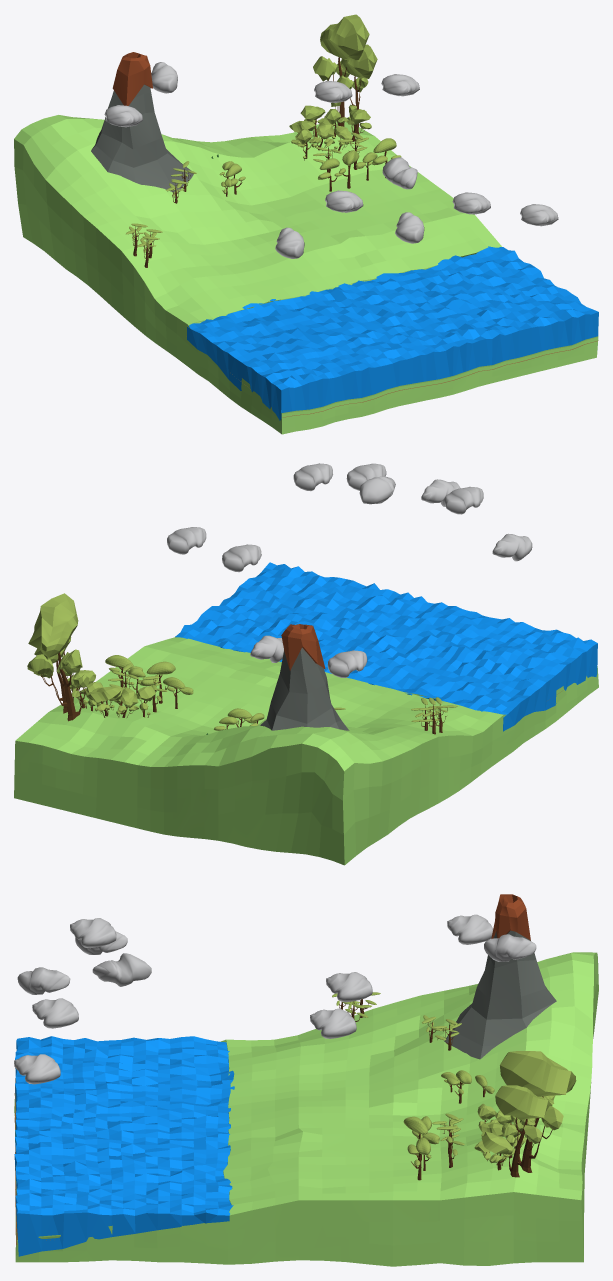
File: land_final_gltf.glb
The picture shows the model from 3 angles, top to bottom: view 1: azimuth 30°, elevation 25°; view 2: azimuth 150°, elevation 25°; view 3: azimuth 270°, elevation 25°; orthographic projection. The views are drawn at different scales.
Parts seen in each view (by area): view 1: ground, seaWater, vulkaan|vulkaanTop_L_cyclus_vulkaan_model_v001.blend|Dupli|, boom4.005|CS_boom4_L_cyclus_boom4_model_v001.blend|Dupli|, boom4.005|CS_boom4_L_cyclus_boom4_model_v001.blend|Dupli|.00, cloud.002|CS_wolk_L_cyclus_wolk_v001.blend|Dupli|, cloud|CS_wolk_L_cyclus_wolk_v001.blend|Dupli|.001, cloud|CS_wolk_L_cyclus_wolk_v001.blend|Dupli|, cloud|CS_wolk_L_cyclus_wolk_v001.blend|Dupli|.002, cloud.001|CS_wolk_L_cyclus_wolk_v001.blend|Dupli|.002, cloud.001|CS_wolk_L_cyclus_wolk_v001.blend|Dupli|.001, cloud.001|CS_wolk_L_cyclus_wolk_v001.blend|Dupli|.004 (+3 smaller); view 2: ground, seaWater, vulkaan|vulkaanTop_L_cyclus_vulkaan_model_v001.blend|Dupli|, boom4.005|CS_boom4_L_cyclus_boom4_model_v001.blend|Dupli|, cloud.001|CS_wolk_L_cyclus_wolk_v001.blend|Dupli|, cloud.001|CS_wolk_L_cyclus_wolk_v001.blend|Dupli|.002, cloud.001|CS_wolk_L_cyclus_wolk_v001.blend|Dupli|.004, cloud.001|CS_wolk_L_cyclus_wolk_v001.blend|Dupli|.003, cloud.001|CS_wolk_L_cyclus_wolk_v001.blend|Dupli|.005, cloud.002|CS_wolk_L_cyclus_wolk_v001.blend|Dupli|, cloud|CS_wolk_L_cyclus_wolk_v001.blend|Dupli|.001, cloud|CS_wolk_L_cyclus_wolk_v001.blend|Dupli|.002 (+4 smaller); view 3: ground, seaWater, vulkaan|vulkaanTop_L_cyclus_vulkaan_model_v001.blend|Dupli|, boom4.005|CS_boom4_L_cyclus_boom4_model_v001.blend|Dupli|, boom4.005|CS_boom4_L_cyclus_boom4_model_v001.blend|Dupli|.00, cloud.002|CS_wolk_L_cyclus_wolk_v001.blend|Dupli|, cloud|CS_wolk_L_cyclus_wolk_v001.blend|Dupli|, cloud|CS_wolk_L_cyclus_wolk_v001.blend|Dupli|.002, cloud.001|CS_wolk_L_cyclus_wolk_v001.blend|Dupli|, cloud.001|CS_wolk_L_cyclus_wolk_v001.blend|Dupli|.003, cloud.001|CS_wolk_L_cyclus_wolk_v001.blend|Dupli|.004, cloud.001|CS_wolk_L_cyclus_wolk_v001.blend|Dupli|.001 (+4 smaller).
Part boxes in pixels (box(x1,y1,x2,y2)): ground: box(14, 115, 598, 434); seaWater: box(187, 246, 598, 420); vulkaan|vulkaanTop_L_cyclus_vulkaan_model_v001.blend|Dupli|: box(91, 52, 193, 192); boom4.005|CS_boom4_L_cyclus_boom4_model_v001.blend|Dupli|: box(313, 14, 369, 126); boom4.005|CS_boom4_L_cyclus_boom4_model_v001.blend|Dupli|.00: box(337, 44, 377, 134); cloud.002|CS_wolk_L_cyclus_wolk_v001.blend|Dupli|: box(382, 157, 417, 189); cloud|CS_wolk_L_cyclus_wolk_v001.blend|Dupli|.001: box(275, 227, 304, 258); cloud|CS_wolk_L_cyclus_wolk_v001.blend|Dupli|: box(395, 212, 424, 243); cloud|CS_wolk_L_cyclus_wolk_v001.blend|Dupli|.002: box(151, 62, 177, 93); cloud.001|CS_wolk_L_cyclus_wolk_v001.blend|Dupli|.002: box(325, 190, 363, 212); cloud.001|CS_wolk_L_cyclus_wolk_v001.blend|Dupli|.001: box(452, 192, 490, 214); cloud.001|CS_wolk_L_cyclus_wolk_v001.blend|Dupli|.004: box(314, 80, 352, 102); ground: box(14, 637, 598, 865); seaWater: box(175, 562, 597, 731); vulkaan|vulkaanTop_L_cyclus_vulkaan_model_v001.blend|Dupli|: box(260, 624, 349, 730); boom4.005|CS_boom4_L_cyclus_boom4_model_v001.blend|Dupli|: box(27, 593, 89, 721); cloud.001|CS_wolk_L_cyclus_wolk_v001.blend|Dupli|: box(167, 527, 206, 554); cloud.001|CS_wolk_L_cyclus_wolk_v001.blend|Dupli|.002: box(444, 486, 483, 514); cloud.001|CS_wolk_L_cyclus_wolk_v001.blend|Dupli|.004: box(222, 544, 261, 572); cloud.001|CS_wolk_L_cyclus_wolk_v001.blend|Dupli|.003: box(293, 463, 332, 491); cloud.001|CS_wolk_L_cyclus_wolk_v001.blend|Dupli|.005: box(327, 650, 367, 677); cloud.002|CS_wolk_L_cyclus_wolk_v001.blend|Dupli|: box(359, 476, 395, 504); cloud|CS_wolk_L_cyclus_wolk_v001.blend|Dupli|.001: box(492, 533, 532, 561); cloud|CS_wolk_L_cyclus_wolk_v001.blend|Dupli|.002: box(250, 635, 283, 662); ground: box(14, 952, 598, 1266); seaWater: box(14, 1036, 234, 1256); vulkaan|vulkaanTop_L_cyclus_vulkaan_model_v001.blend|Dupli|: box(444, 894, 556, 1059); boom4.005|CS_boom4_L_cyclus_boom4_model_v001.blend|Dupli|: box(500, 1051, 576, 1172); boom4.005|CS_boom4_L_cyclus_boom4_model_v001.blend|Dupli|.00: box(495, 1085, 551, 1177); cloud.002|CS_wolk_L_cyclus_wolk_v001.blend|Dupli|: box(92, 953, 151, 986); cloud|CS_wolk_L_cyclus_wolk_v001.blend|Dupli|: box(17, 967, 70, 994); cloud|CS_wolk_L_cyclus_wolk_v001.blend|Dupli|.002: box(484, 934, 536, 961); cloud.001|CS_wolk_L_cyclus_wolk_v001.blend|Dupli|: box(310, 1008, 356, 1038); cloud.001|CS_wolk_L_cyclus_wolk_v001.blend|Dupli|.003: box(14, 1054, 60, 1084); cloud.001|CS_wolk_L_cyclus_wolk_v001.blend|Dupli|.004: box(326, 972, 372, 1002); cloud.001|CS_wolk_L_cyclus_wolk_v001.blend|Dupli|.001: box(32, 998, 78, 1028).
Size of the model in its own units: 135 by 80.04 by 182.
